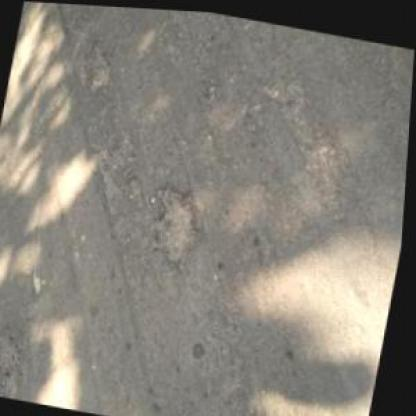pothole: (143, 176, 212, 269)
